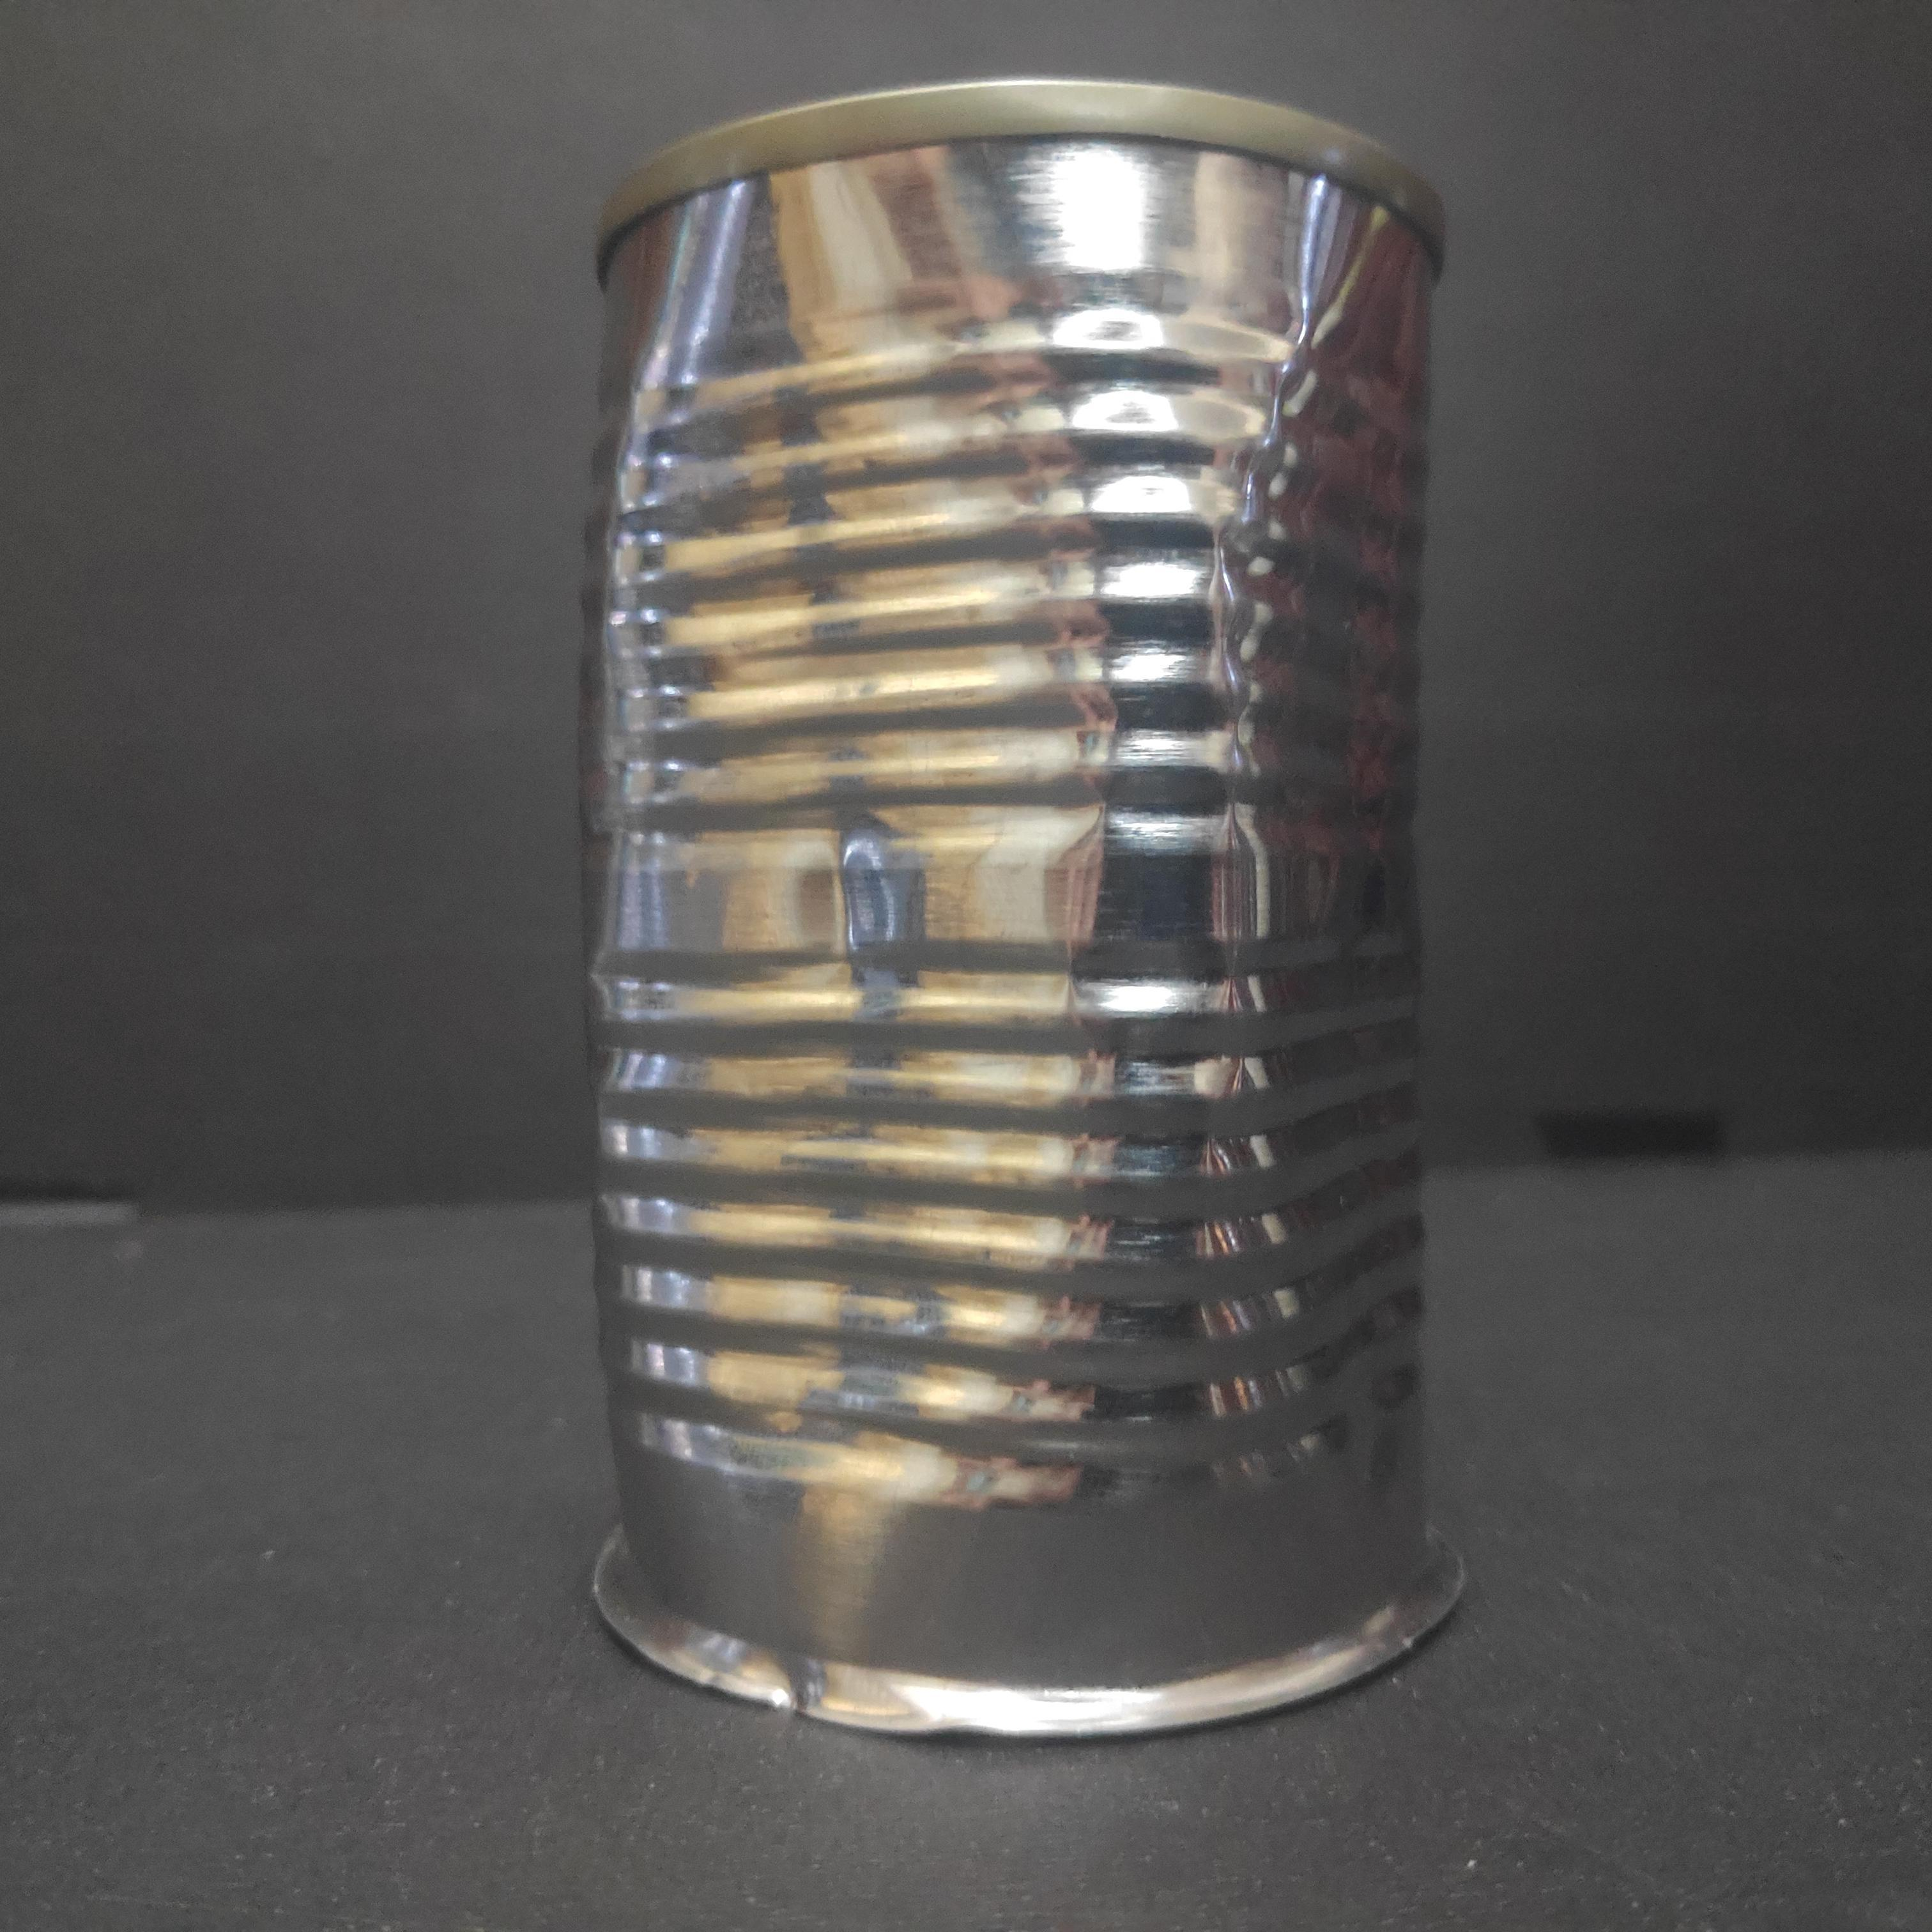Dented: (550, 64, 1502, 1744)
